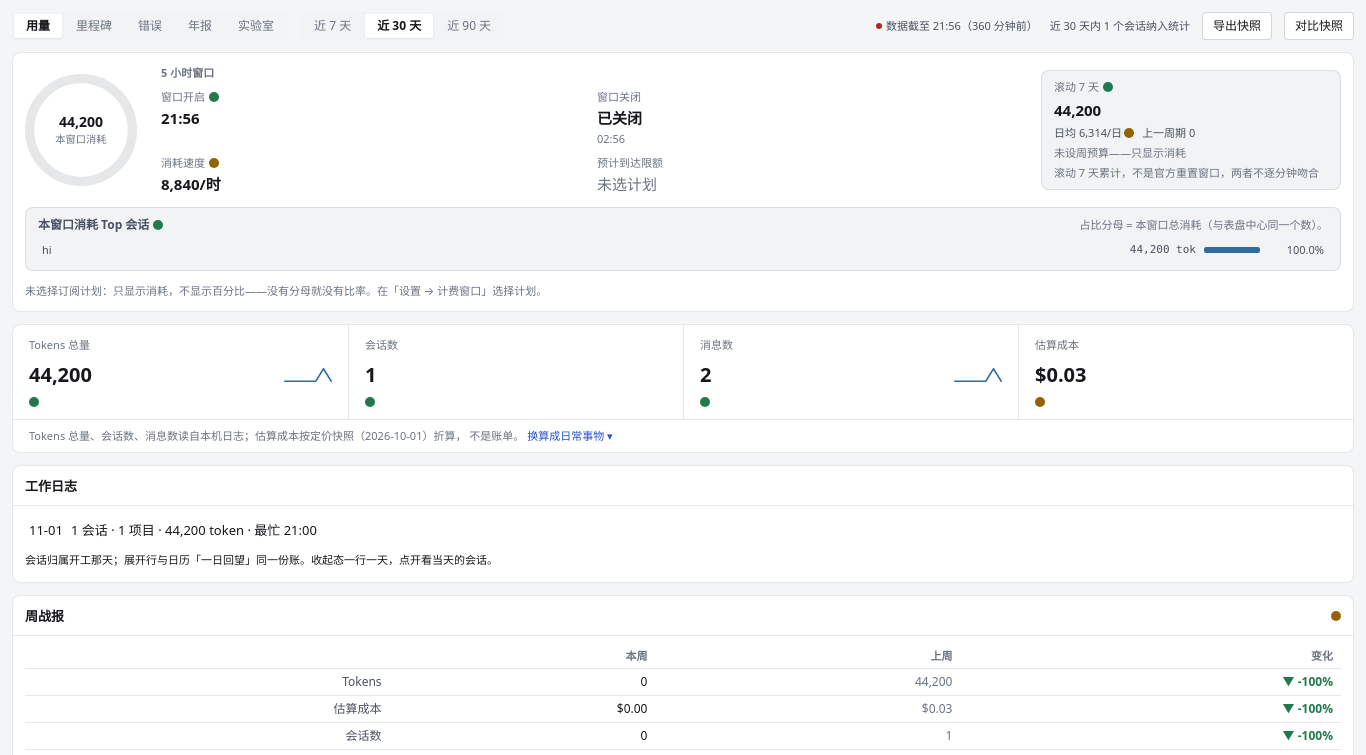
Test: UsageOverviewPage › 导出快照：文件名与扩展名交给保存对话框，产物写入那个路径
Click the button with aria-label "导出用量快照（单文件 HTML）" at (1237, 26), box top-left (1202, 12), bottom-right (1272, 40)
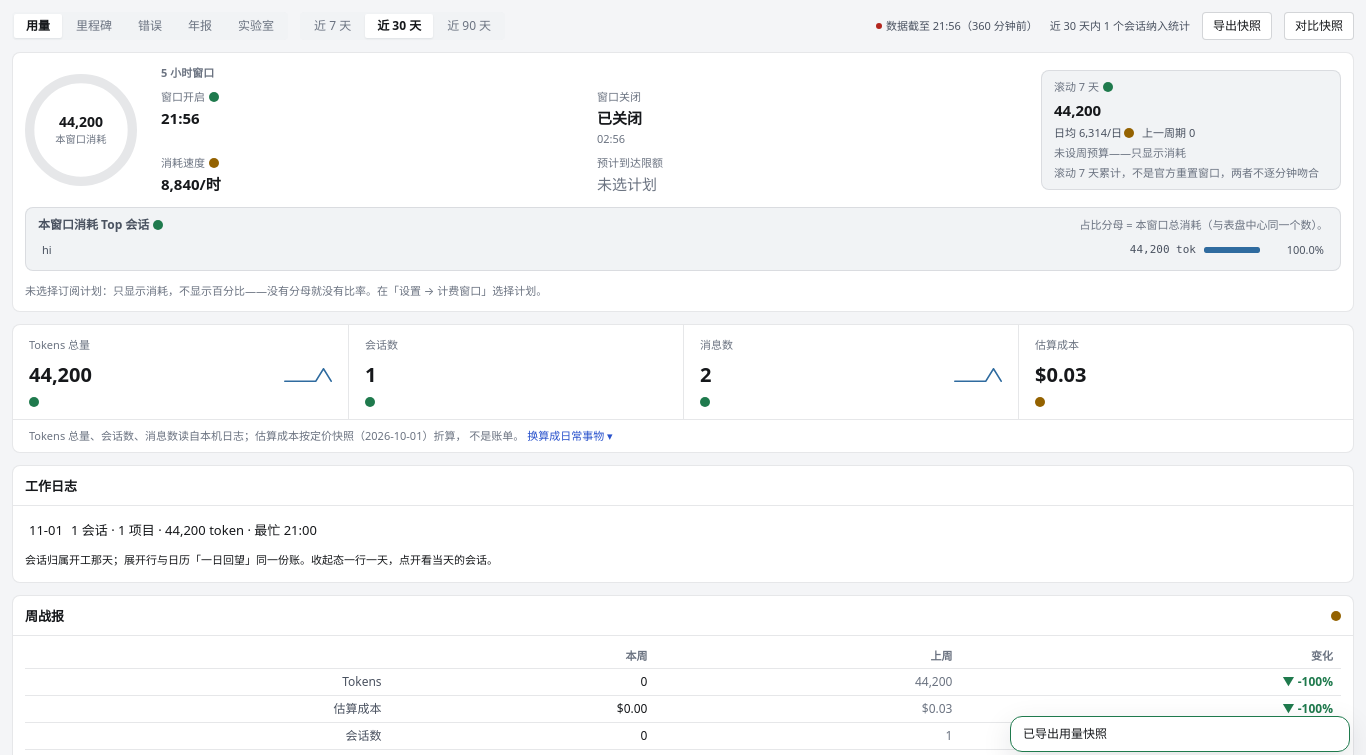
Expected: the text "已导出用量快照" is shown, top-left (1010, 716), bottom-right (1350, 752)
